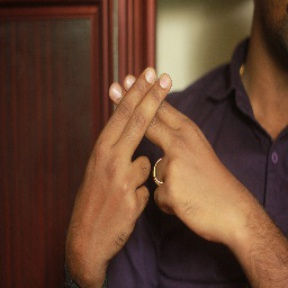F: (83, 65, 206, 176)
